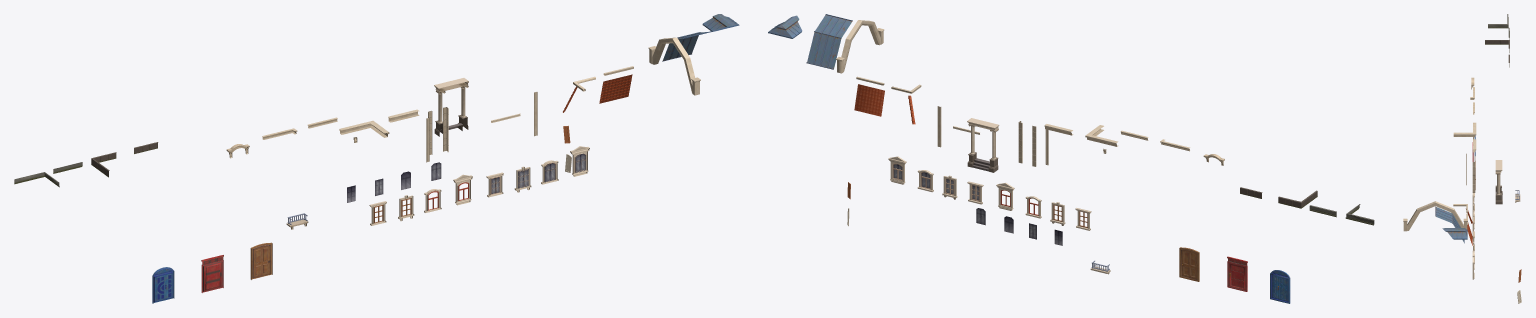
Rendered from kapı_pencere.fbx.
3 views of the same model, side by side, from view 1: azimuth 30°, elevation 25°; view 2: azimuth 150°, elevation 25°; view 3: azimuth 270°, elevation 25° (orthographic). The views are drawn at different scales.
Visible parts, largest first — view 1: stun4, catı_stun3, kapı2, kapı1, kapı3, catı1, catı3; view 2: catı3, stun4, catı1, catı_stun3, kapı2, kapı1, kapı3, catı4; view 3: catı_stun3, stun4, catı3, catı4, stu9, zemin2_L, stun5, zemin1_L.
Part boxes in pixels (x1=…): stun4: x1=434, y1=78, x2=468, y2=136; catı_stun3: x1=648, y1=37, x2=700, y2=95; kapı2: x1=201, y1=255, x2=223, y2=292; kapı1: x1=250, y1=242, x2=272, y2=279; kapı3: x1=152, y1=267, x2=174, y2=303; catı1: x1=599, y1=74, x2=632, y2=103; catı3: x1=662, y1=31, x2=712, y2=61; catı3: x1=806, y1=14, x2=852, y2=69; stun4: x1=967, y1=118, x2=999, y2=172; catı1: x1=854, y1=84, x2=884, y2=116; catı_stun3: x1=836, y1=20, x2=884, y2=73; kapı2: x1=1227, y1=256, x2=1247, y2=291; kapı1: x1=1179, y1=247, x2=1199, y2=281; kapı3: x1=1270, y1=270, x2=1290, y2=303; catı4: x1=768, y1=15, x2=802, y2=38; catı_stun3: x1=1403, y1=201, x2=1467, y2=231; stun4: x1=1495, y1=160, x2=1502, y2=204; catı3: x1=1435, y1=206, x2=1464, y2=243; catı4: x1=1442, y1=228, x2=1467, y2=239; stu9: x1=1453, y1=122, x2=1476, y2=136; zemin2_L: x1=1485, y1=40, x2=1509, y2=52; stun5: x1=1472, y1=161, x2=1475, y2=192; zemin1_L: x1=1488, y1=14, x2=1508, y2=28.
Bounding box in the file's own units: 11459 × 2664 × 2436.
